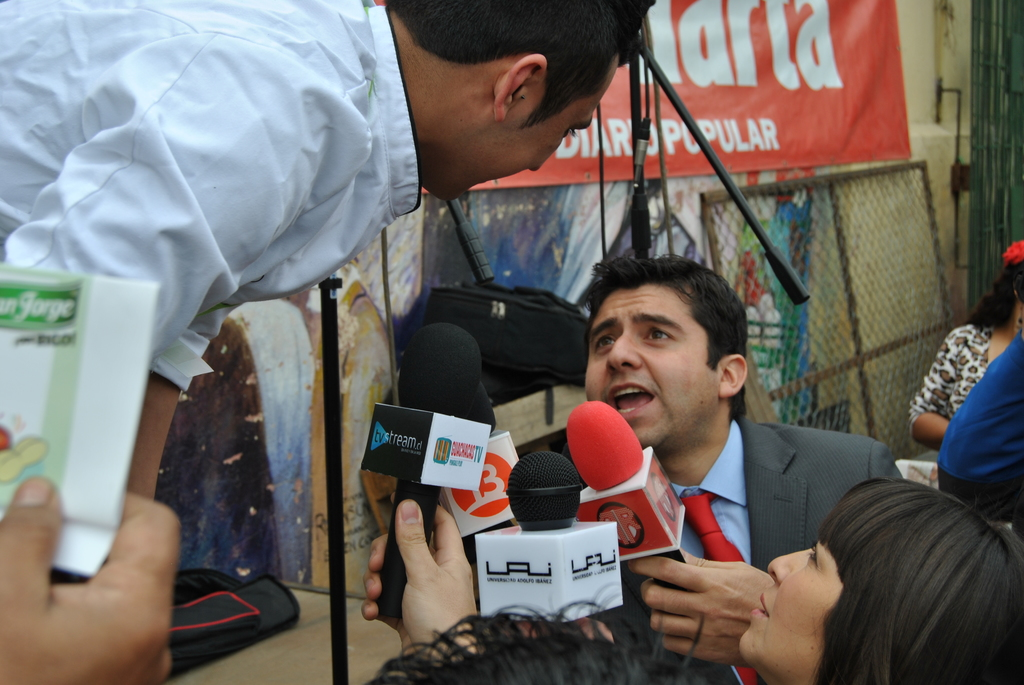Human_hand: (0, 473, 183, 684), (600, 553, 781, 669), (356, 494, 481, 653)
